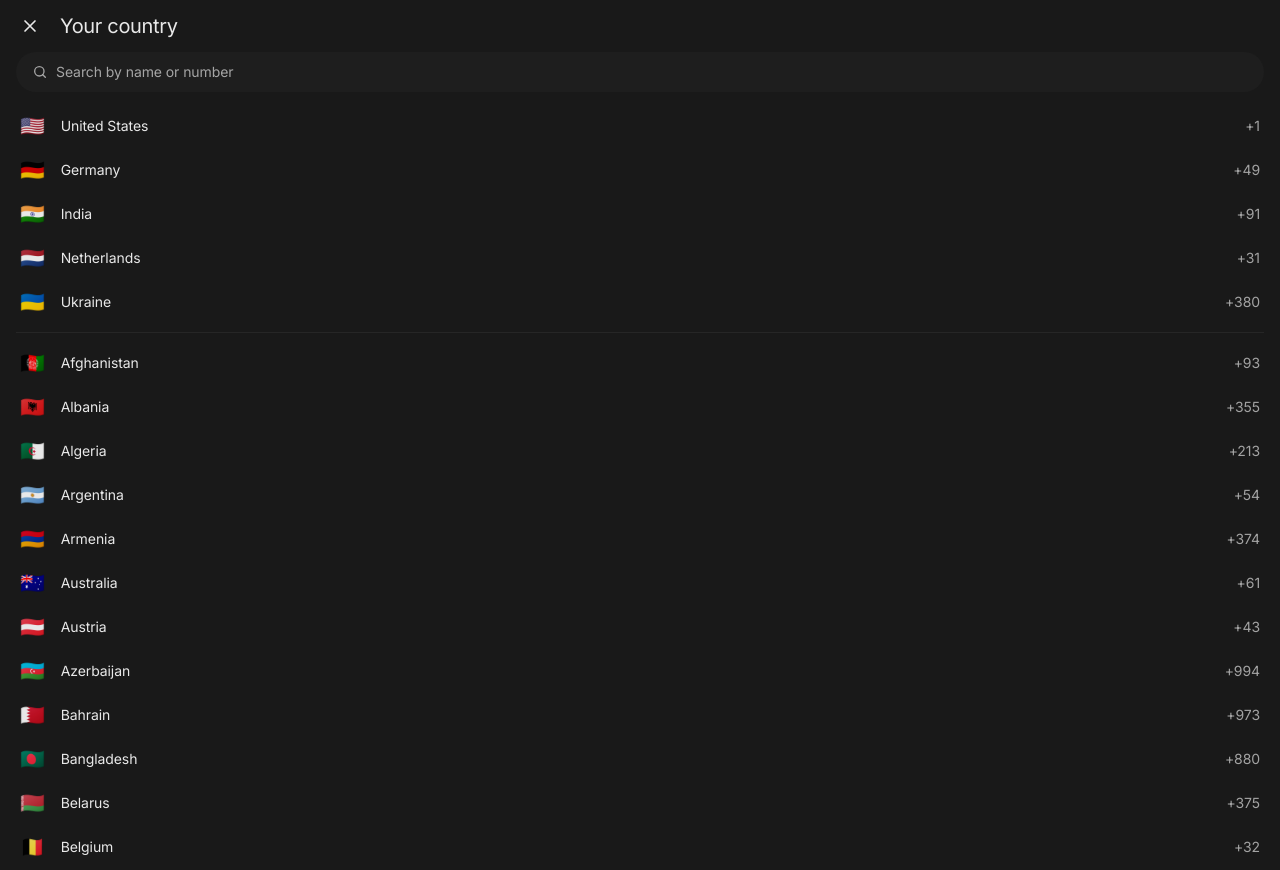
Scenario: CountryPicker › says so when nothing matches
Type "zzzz" into the field labelled "Search by name or number" at (652, 72), box [56,62,1248,82]
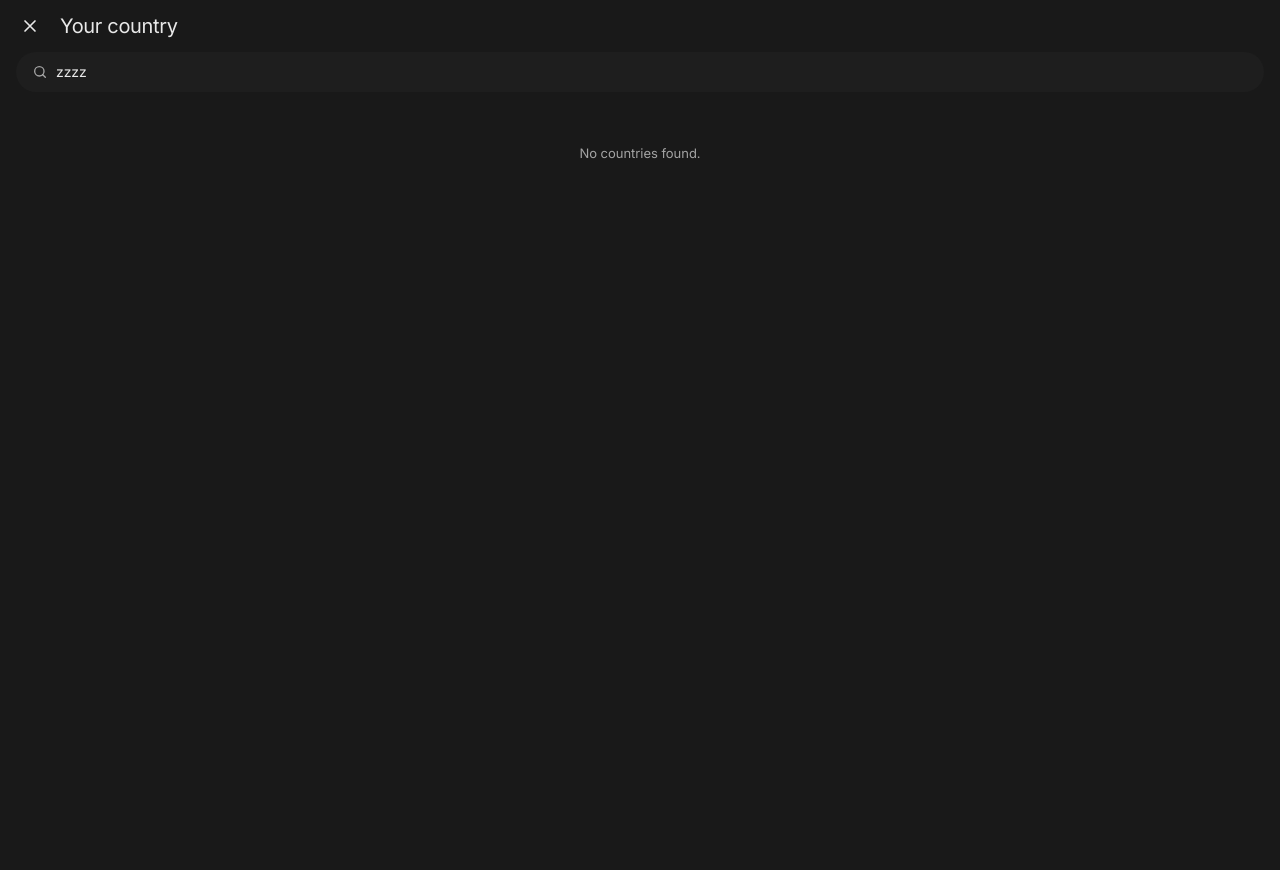
Result: the text "No countries found." is shown at [580,145,701,161]
